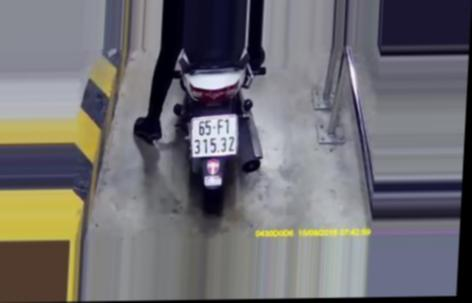License_Plate: (183, 111, 247, 161)
